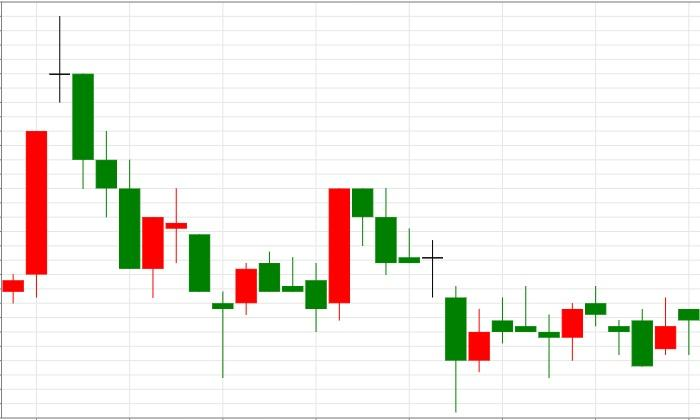morning_star_rise: (50, 16, 257, 378)
